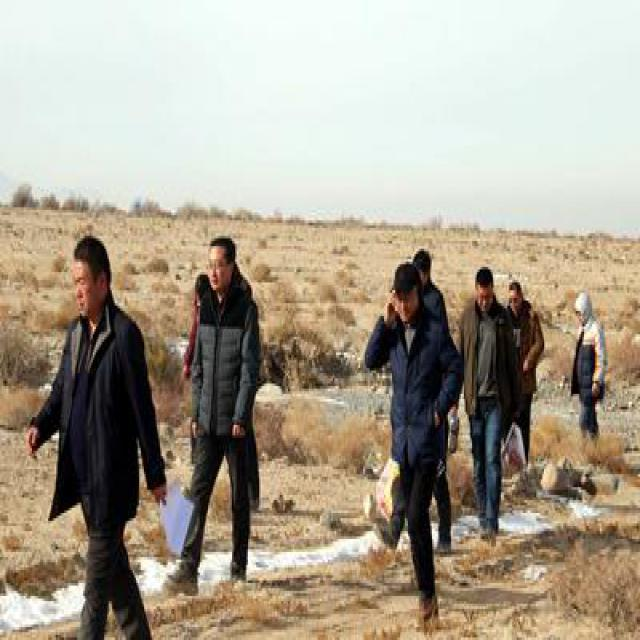head: (67, 232, 113, 322), (203, 226, 243, 294), (389, 257, 424, 325), (470, 257, 494, 312), (412, 240, 436, 289), (507, 273, 523, 315)
person: (22, 230, 172, 622), (161, 225, 282, 588), (353, 254, 469, 624), (456, 253, 517, 565), (502, 273, 559, 473), (563, 287, 619, 451)
